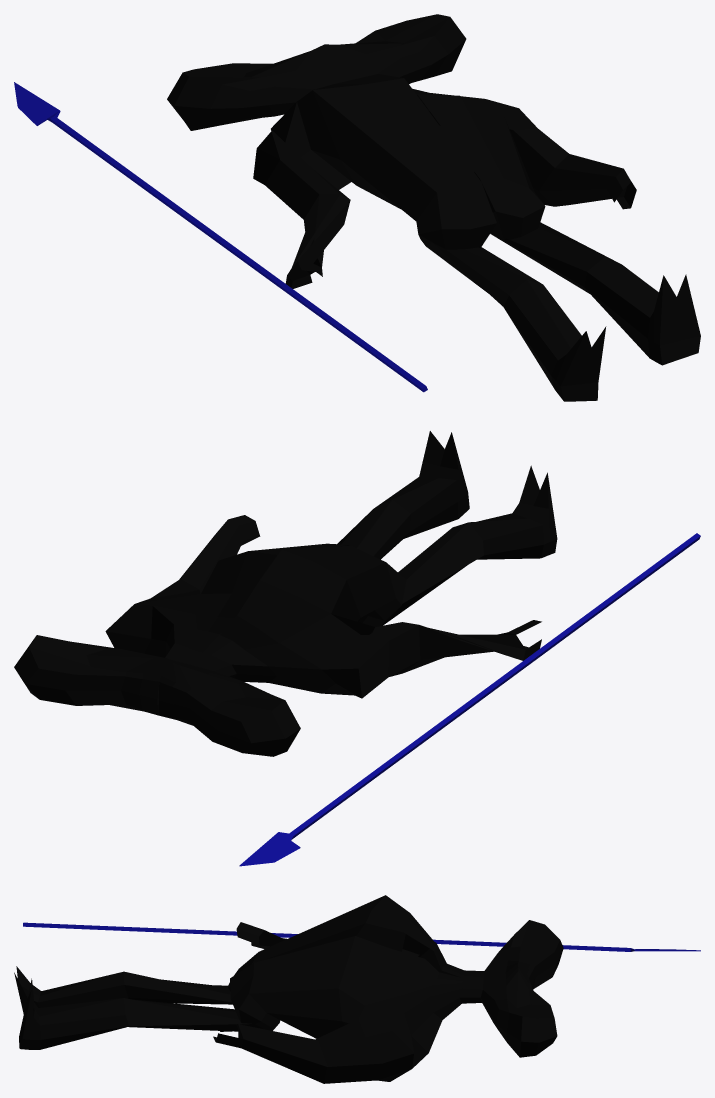
Rendered from Spearman3d.obj.
3 renders of one model, top to bottom at view 1: azimuth 30°, elevation 25°; view 2: azimuth 150°, elevation 25°; view 3: azimuth 270°, elevation 25°, orthographic. The views are drawn at different scales.
Visible parts, largest first — view 1: Cube; view 2: Cube; view 3: Cube.
Boxes of the visible parts, box(x1,y1,x2,y2) form: Cube: box(14, 14, 700, 401); Cube: box(14, 431, 700, 866); Cube: box(14, 895, 700, 1083).
Size of the model in its own units: 12.29 by 4.97 by 25.79.
